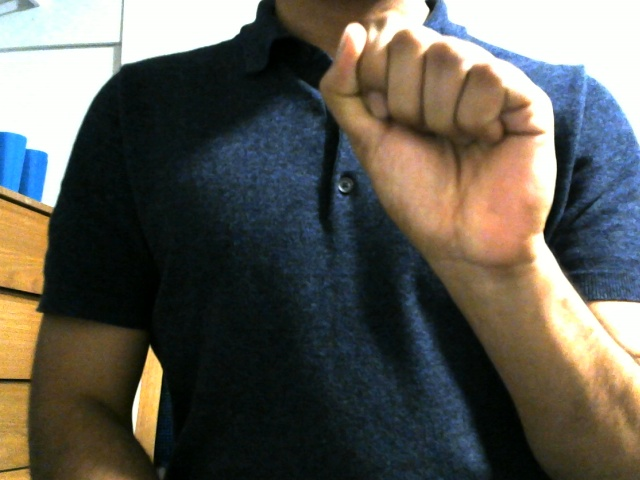A: (310, 14, 573, 274)
